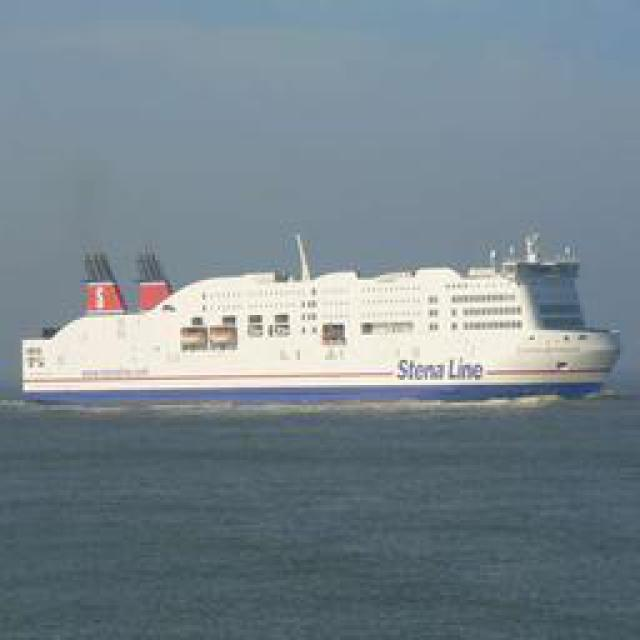Ship: (4, 228, 619, 406)
